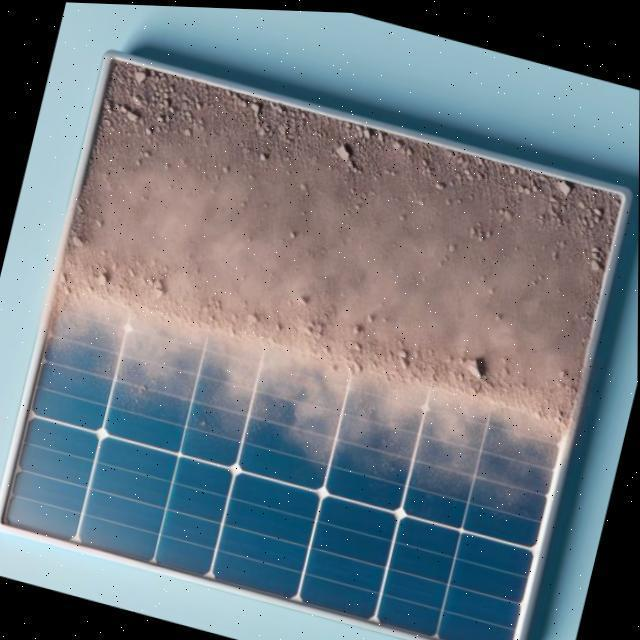Anomaly Solar Panel: (2, 57, 624, 640)
Surface Contaminant: (33, 58, 623, 519)
